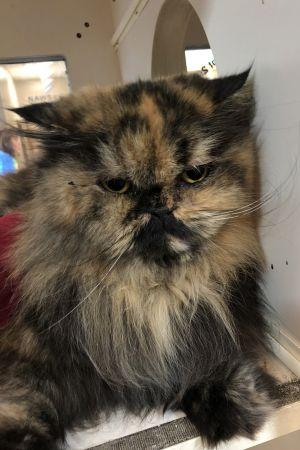persian: (10, 70, 274, 288)
